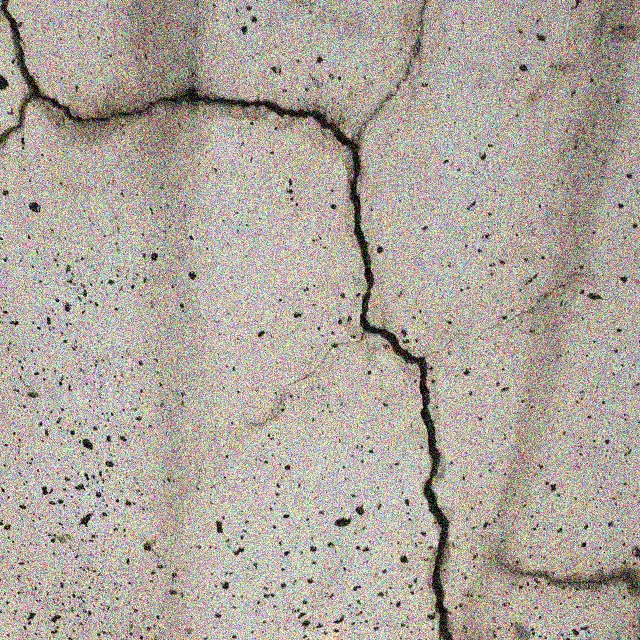SurfaceCrack: (215, 2, 497, 639), (491, 534, 640, 640)
